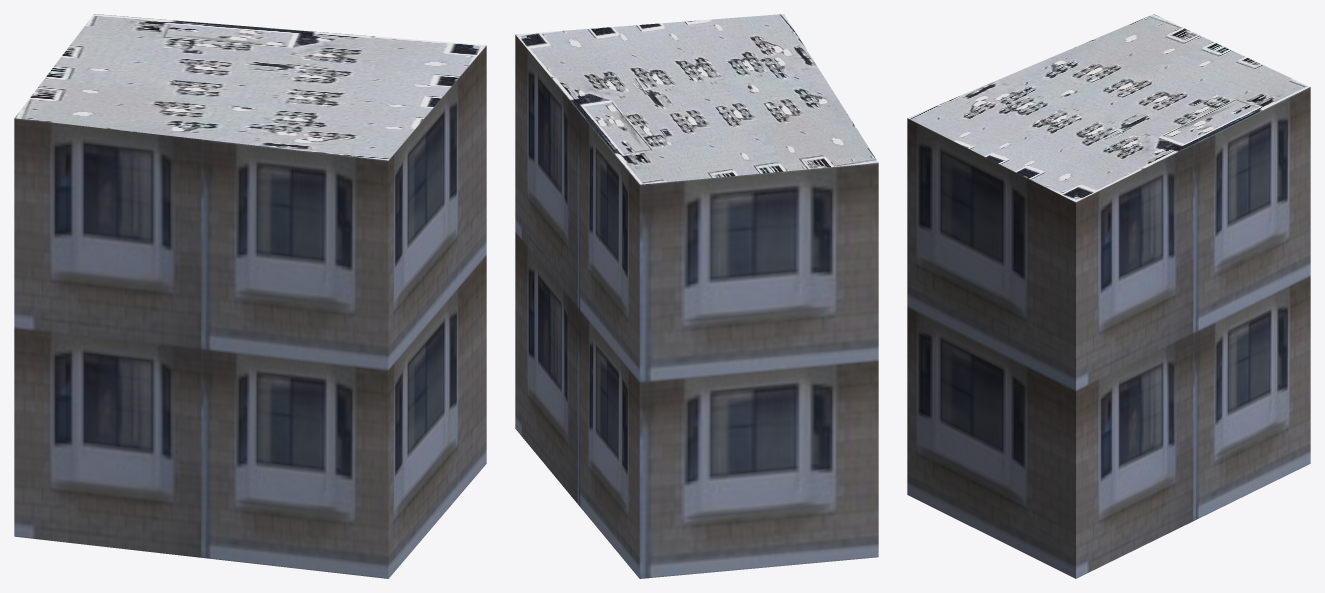
File: ResTex__3556.fbx
3 views of the same model, side by side, from view 1: azimuth 30°, elevation 25°; view 2: azimuth 150°, elevation 25°; view 3: azimuth 270°, elevation 25° (orthographic). The views are drawn at different scales.
Visible parts, largest first — view 1: CityEngineMaterial_3_m, CityEngineMaterial_m; view 2: CityEngineMaterial_3_m, CityEngineMaterial_m; view 3: CityEngineMaterial_3_m, CityEngineMaterial_m.
Boxes of the visible parts, left/top/right/bottom form: CityEngineMaterial_3_m: left=14, top=46, right=486, bottom=578; CityEngineMaterial_m: left=15, top=14, right=486, bottom=160; CityEngineMaterial_3_m: left=515, top=35, right=878, bottom=578; CityEngineMaterial_m: left=515, top=14, right=878, bottom=184; CityEngineMaterial_3_m: left=907, top=87, right=1310, bottom=578; CityEngineMaterial_m: left=908, top=14, right=1309, bottom=202.
Bounding box in the file's own units: 6.44 × 6 × 5.82.
Materials: 2 (2 with a texture image).
